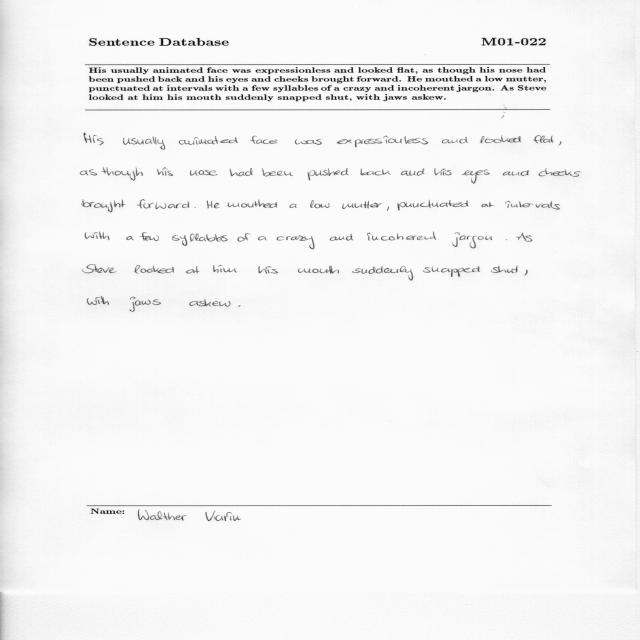word: (337, 136, 428, 147), (352, 266, 413, 281), (172, 233, 228, 246), (397, 200, 469, 210), (452, 233, 492, 249), (423, 266, 480, 277), (82, 200, 126, 213), (367, 232, 436, 240), (123, 137, 165, 150), (101, 168, 143, 181), (308, 168, 349, 181), (277, 236, 315, 250), (179, 136, 238, 145), (505, 201, 560, 210), (137, 200, 189, 209), (130, 297, 161, 312), (228, 199, 277, 208), (461, 170, 490, 184), (538, 168, 581, 177), (480, 135, 522, 143), (189, 299, 231, 307), (298, 266, 339, 274), (342, 201, 382, 209), (134, 265, 174, 273), (262, 168, 293, 177), (83, 265, 117, 273), (84, 133, 104, 145), (250, 136, 277, 144), (491, 265, 518, 273), (361, 169, 391, 176), (85, 232, 110, 240), (87, 296, 109, 305), (401, 168, 425, 176), (213, 265, 237, 273), (230, 168, 253, 176), (442, 137, 468, 144), (139, 232, 159, 241), (533, 135, 554, 143), (190, 170, 218, 176), (330, 234, 354, 241), (295, 139, 322, 145), (310, 200, 330, 208), (258, 266, 278, 274), (503, 170, 529, 176), (157, 167, 173, 176), (517, 233, 533, 242), (434, 169, 452, 176), (238, 233, 251, 242), (186, 266, 200, 274), (207, 201, 220, 209), (80, 170, 97, 176), (481, 202, 494, 207), (258, 236, 267, 240), (290, 203, 297, 208), (126, 236, 134, 240), (524, 270, 528, 276), (558, 141, 562, 146), (387, 207, 389, 211), (239, 305, 241, 307), (195, 207, 196, 208), (506, 239, 507, 240)
